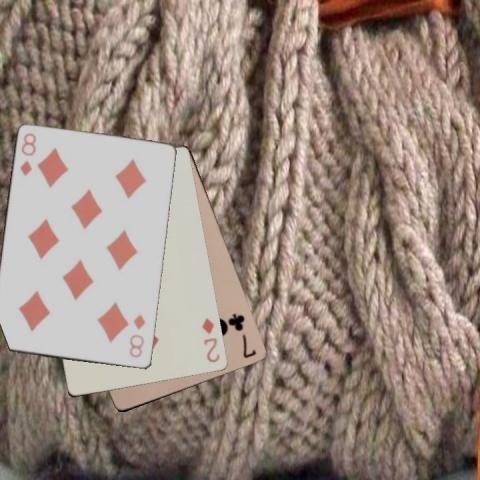2d: (199, 315, 222, 365)
7c: (227, 311, 258, 360)
8d: (17, 130, 38, 178), (126, 312, 146, 360)
